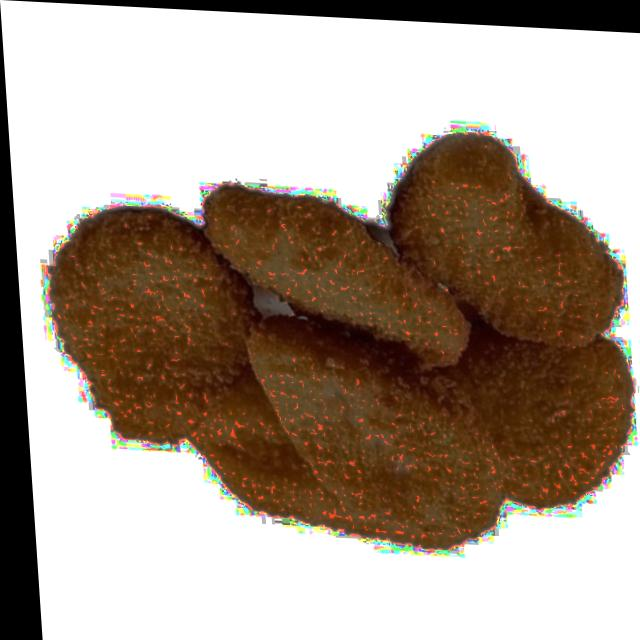chicken_nuggets: (379, 124, 630, 354), (241, 328, 511, 541), (38, 188, 249, 457), (197, 183, 487, 376)
